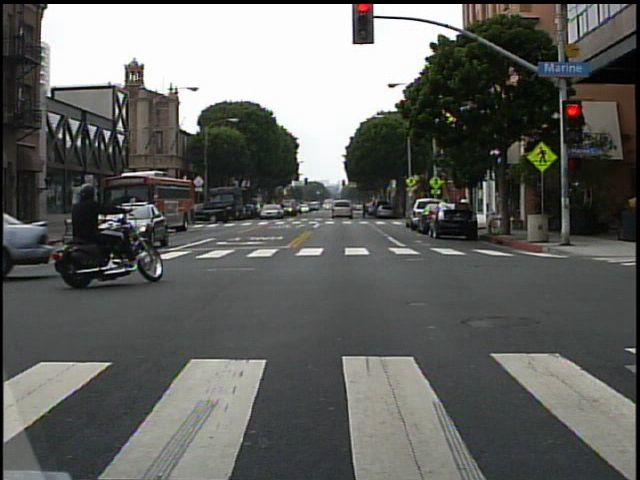person: (55, 178, 139, 288)
